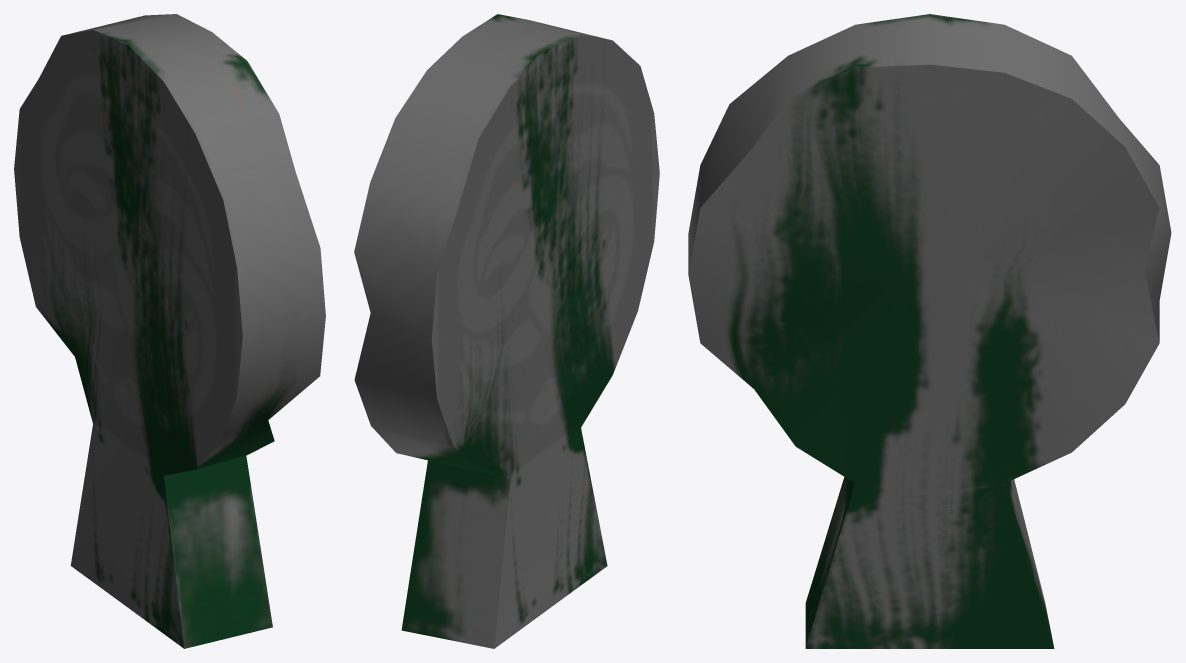
Rendered from tumba_circular.fbx.
3 views of the same model, side by side, from view 1: azimuth 30°, elevation 25°; view 2: azimuth 150°, elevation 25°; view 3: azimuth 270°, elevation 25° (orthographic). The views are drawn at different scales.
Visible parts, largest first — view 1: Tumba:pCylinder1; view 2: Tumba:pCylinder1; view 3: Tumba:pCylinder1.
Boxes of the visible parts, left/top/right/bottom form: Tumba:pCylinder1: left=14, top=14, right=325, bottom=648; Tumba:pCylinder1: left=354, top=14, right=659, bottom=648; Tumba:pCylinder1: left=688, top=14, right=1171, bottom=648.
Size of the model in its own units: 0.2388 by 1.44 by 1.07.
